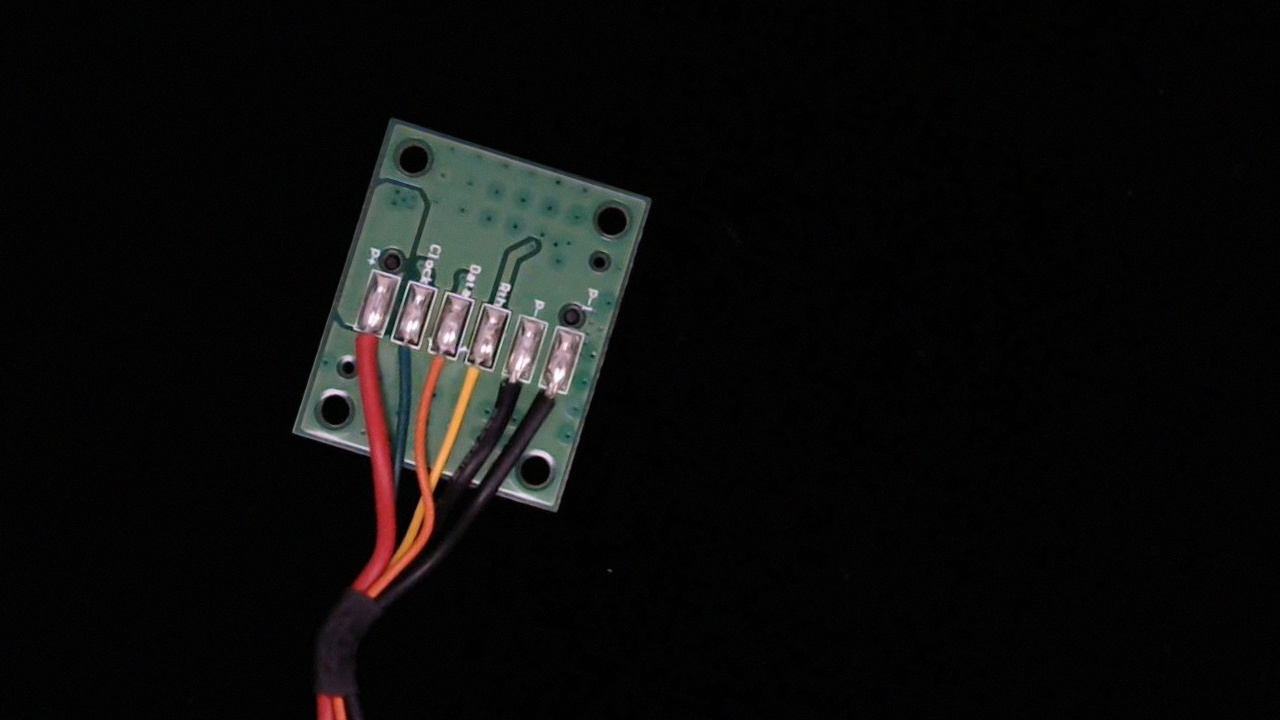Black: (483, 353, 538, 433)
Black1: (522, 366, 573, 440)
Green: (377, 314, 430, 391)
Orange: (413, 328, 465, 406)
Red: (338, 306, 392, 383)
Yellow: (450, 342, 504, 422)
